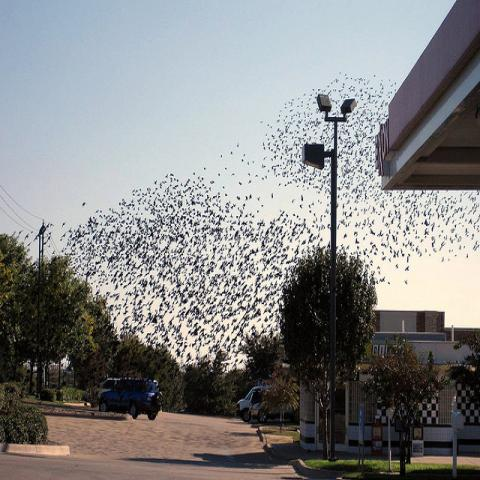car: (98, 378, 163, 420), (248, 389, 300, 424), (83, 378, 120, 406), (236, 386, 261, 422)
